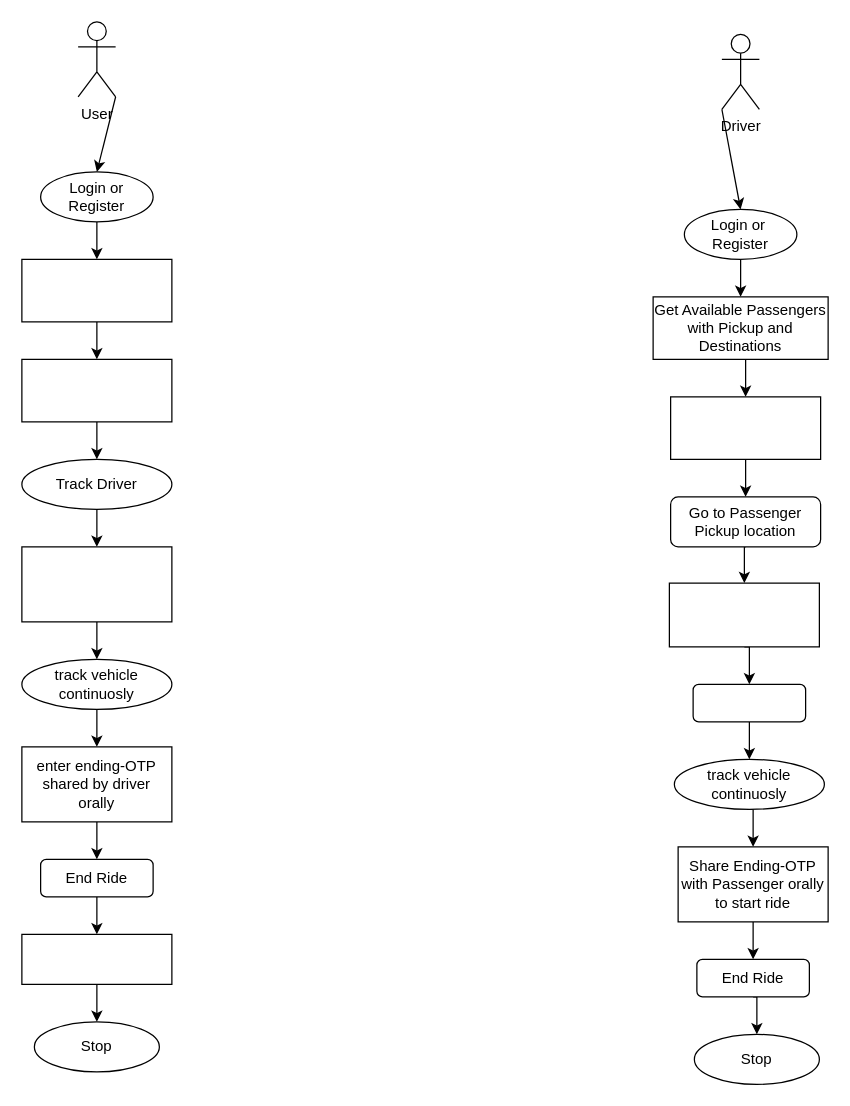
This 850x1106 diagram has some shape labels left out. The shapes that lost their labels are listed below. From the top down, each one's box as (x1, y1, x2, y2) in pixels, then its label:
(21, 258, 172, 322): Seach for pickup and Destination
(21, 358, 172, 422): Get Available Driver details, price, starting-OTP
(669, 396, 821, 459): Select a Passenger and Accept Ride
(21, 546, 172, 622): Share starting-OTP with driver orally to start ride
(668, 582, 819, 647): enter Starting-OTP shared by passenger orally
(692, 683, 806, 722): Start Ride
(21, 933, 172, 984): Payment
